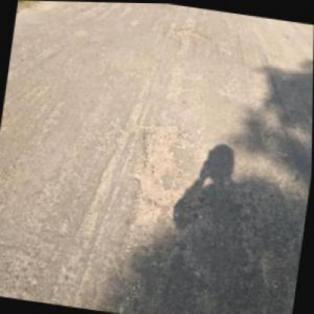Hueco: (128, 117, 196, 232), (164, 24, 213, 47)
